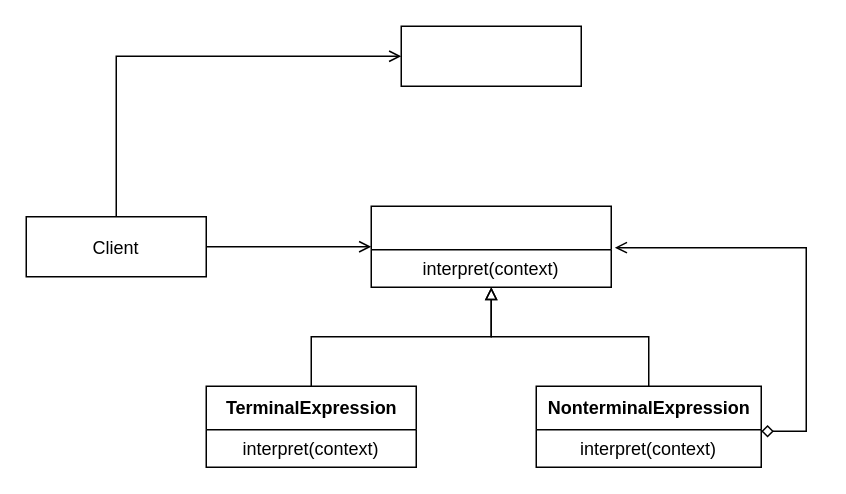
Some shapes in this 846 by 494 pixel diagram are drawn without their labels. The shapes that lost their labels are listed below. From the top down, each one's box as (x1, y1, x2, y2) in pixels, then its label:
(400, 25, 581, 86): Context
(370, 205, 611, 287): <<AbstractExpression>>
